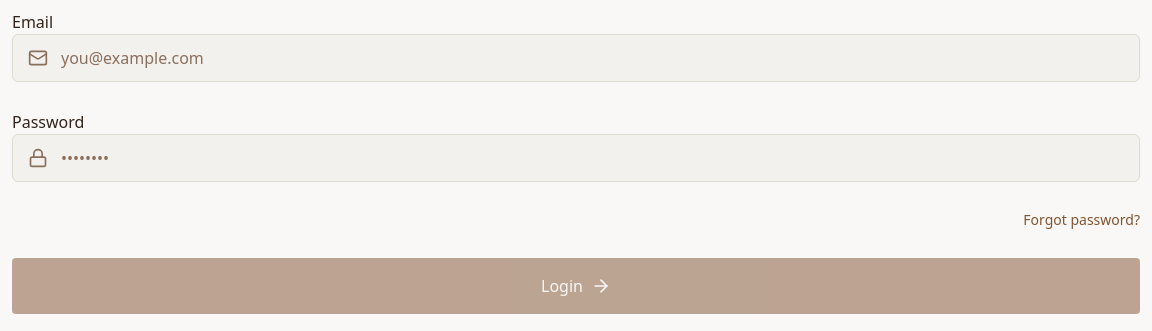
it: LoginForm › submit button becomes enabled when both fields are filled
Type "dan@test.com" into the field labelled "Email" at (576, 58), box [12, 34, 1140, 82]
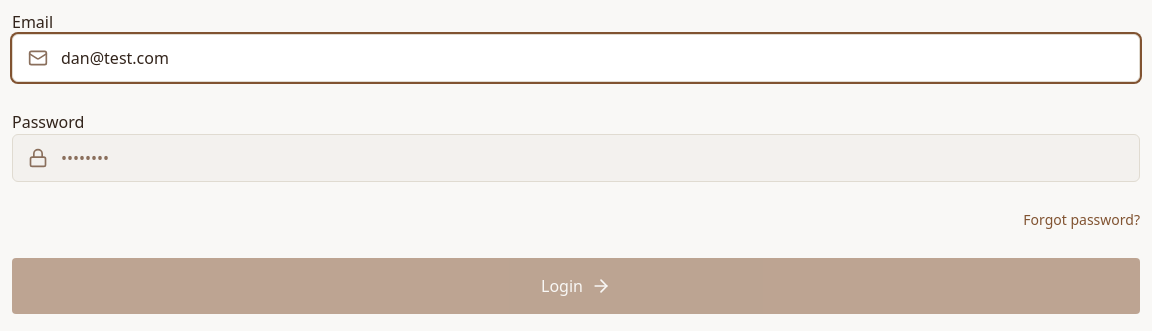
Type "Pass123!" into the password field labelled "Password" at (576, 158), box [12, 134, 1140, 182]
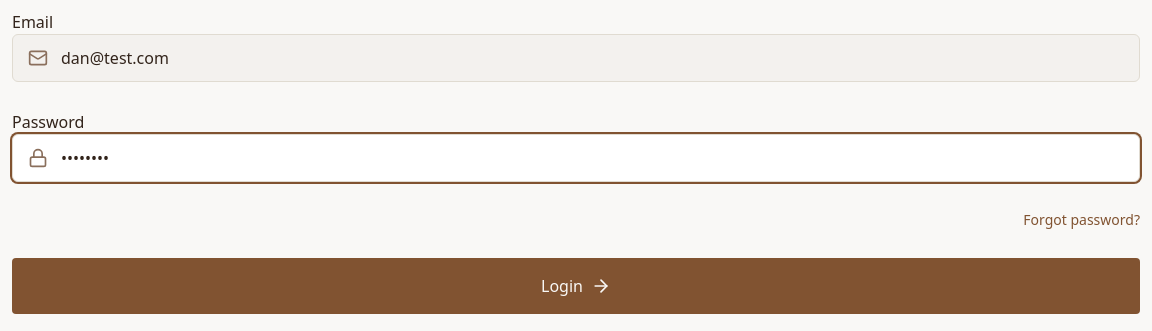
Expected: the button "Login" is enabled, [12, 258, 1140, 314]
